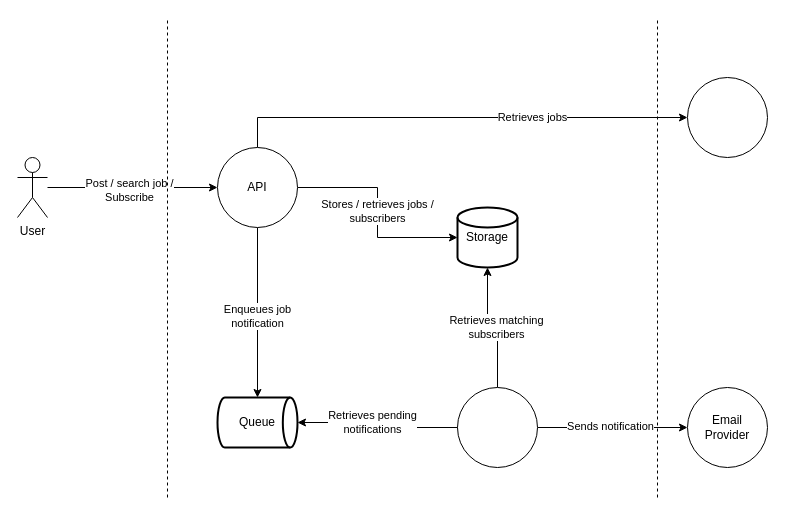
The diagram is 785 pixels wide and 516 high, and some of its shapes have lost their labels. The shapes that lost their labels are listed below. From the top down, each one's centre as x and y in pixels, then its label:
(727,117): External Source API
(497,427): Notifications
